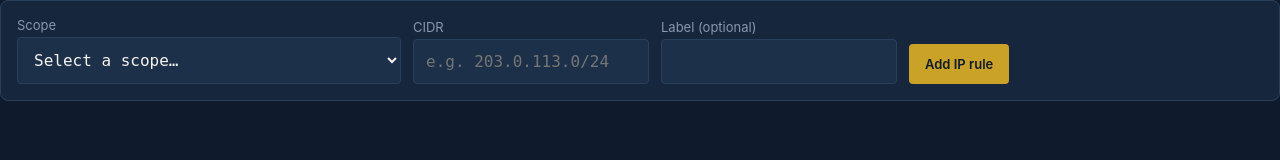
Scenario: CreateIpRuleForm › falls back to a generic error message when the action fails without one
Select "Global — applies to every user" in the dropdown labelled "Scope": x=209, y=60 [17,37,401,84]
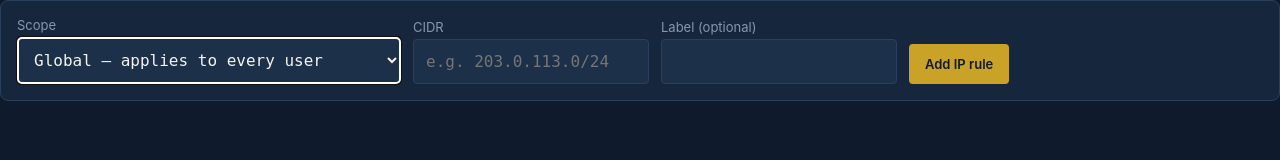
In the field labelled "CIDR": x=531, y=62 [413,39,649,84], type "203.0.113.0/24"
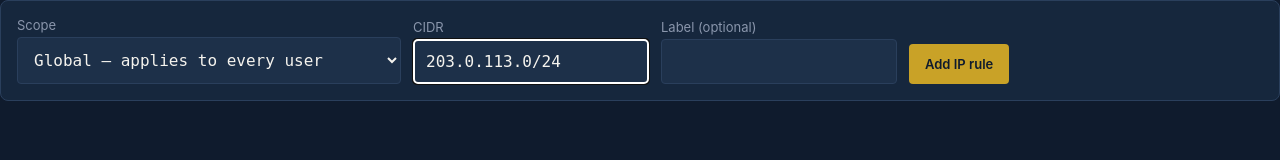
Click the button "Add IP rule": x=959, y=64 [909,44,1009,84]
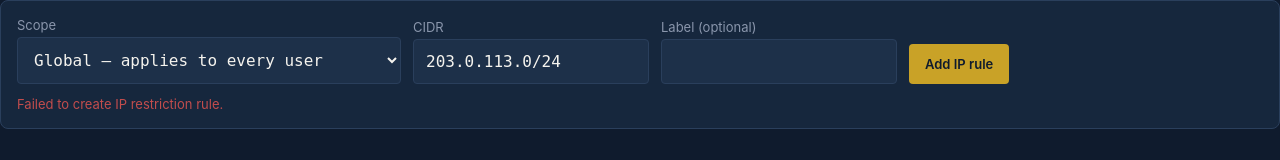
Check: the text "Failed to create IP restriction rule." is shown, box [17,96,223,112]
